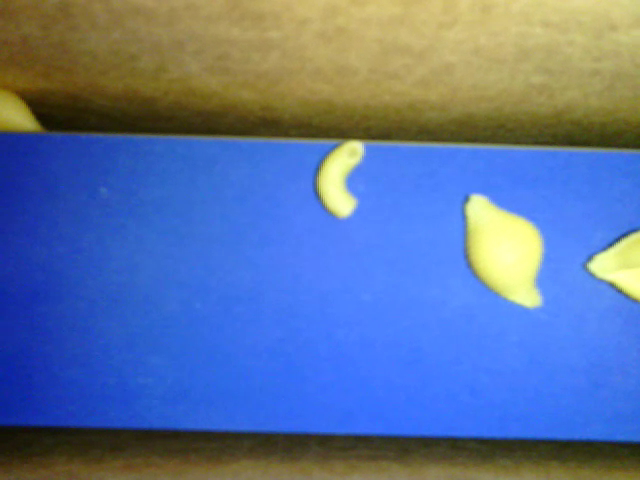elbow: (315, 138, 364, 220)
shell: (464, 193, 544, 309), (583, 228, 639, 302)
